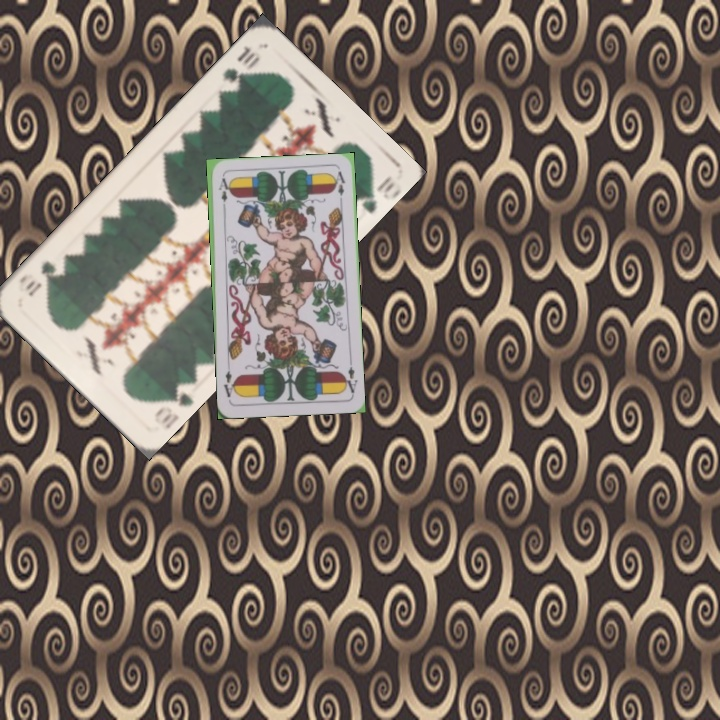EA: (340, 356, 360, 397), (215, 174, 230, 214)
G10: (218, 42, 263, 95), (149, 378, 195, 427)
